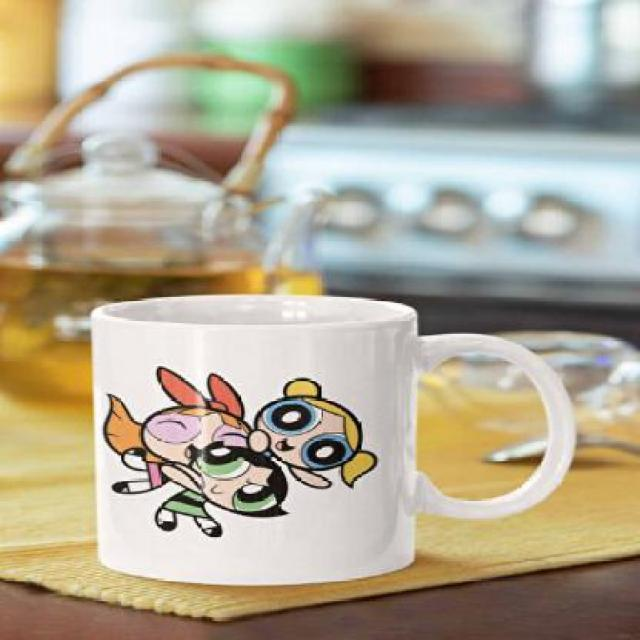taza: (93, 293, 578, 588)
